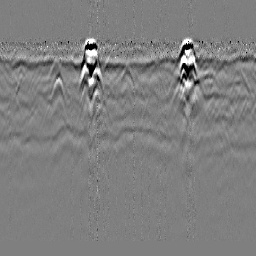cavity: (120, 63, 134, 87)
